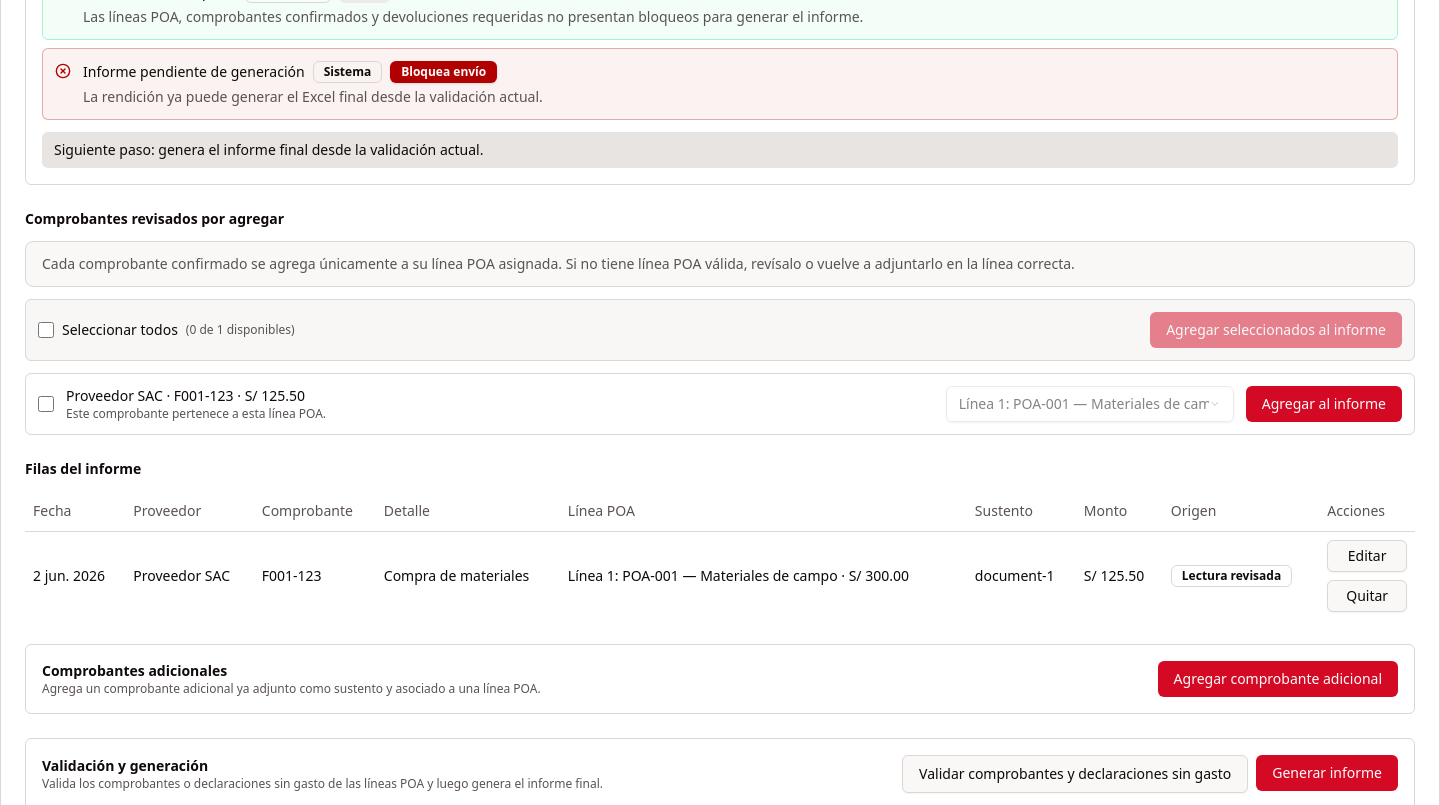
Test: StructuredRenditionReportCard › mantiene add individual, add seleccionados y generate bloqueados mientras el refetch está pendiente
(page scrolled)
Step 1. Click the checkbox named "Seleccionar Proveedor SAC" → (46, 404), box [38,396,54,412]
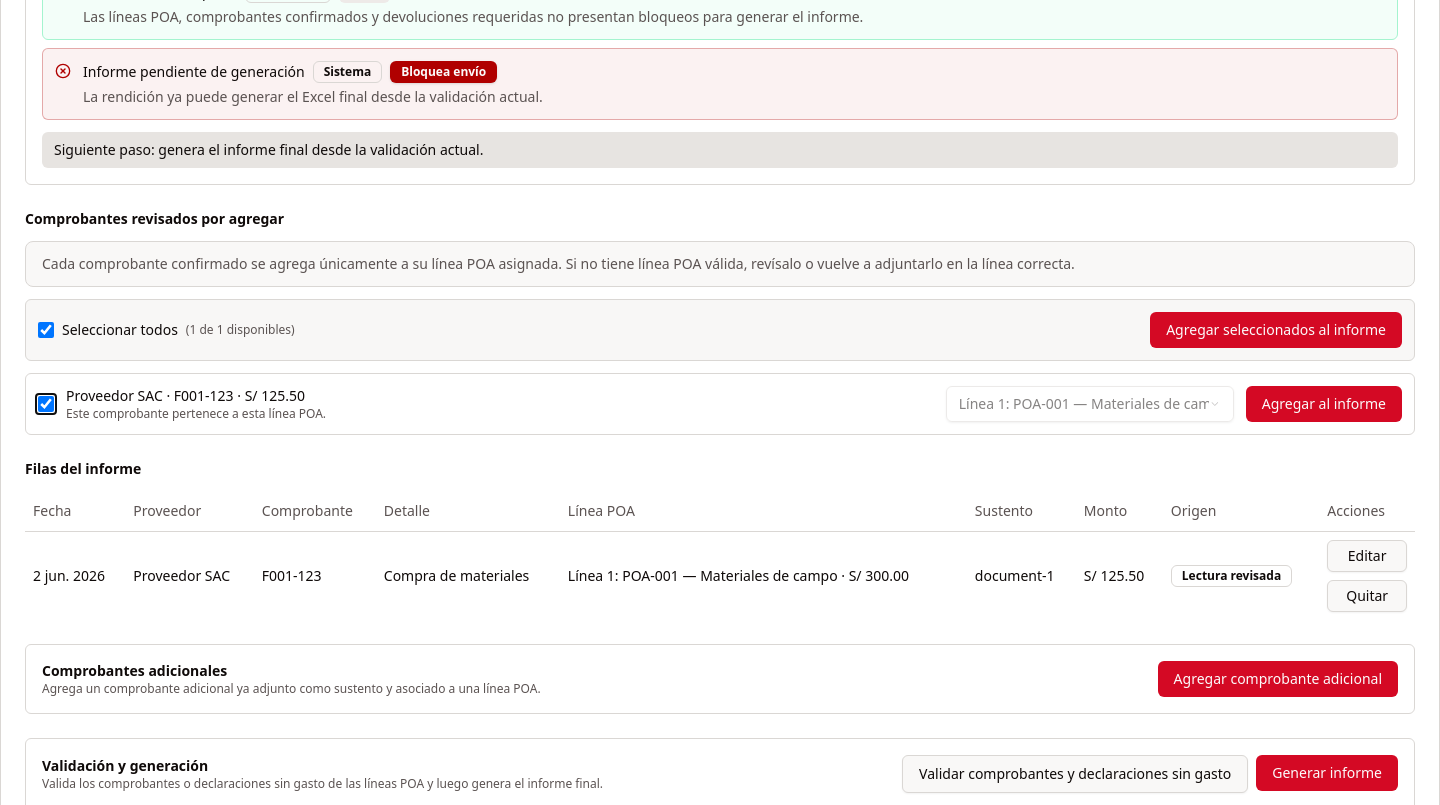
Step 2. Click the button "Agregar al informe" → (1324, 404), box [1246,386,1402,422]
(page scrolled)
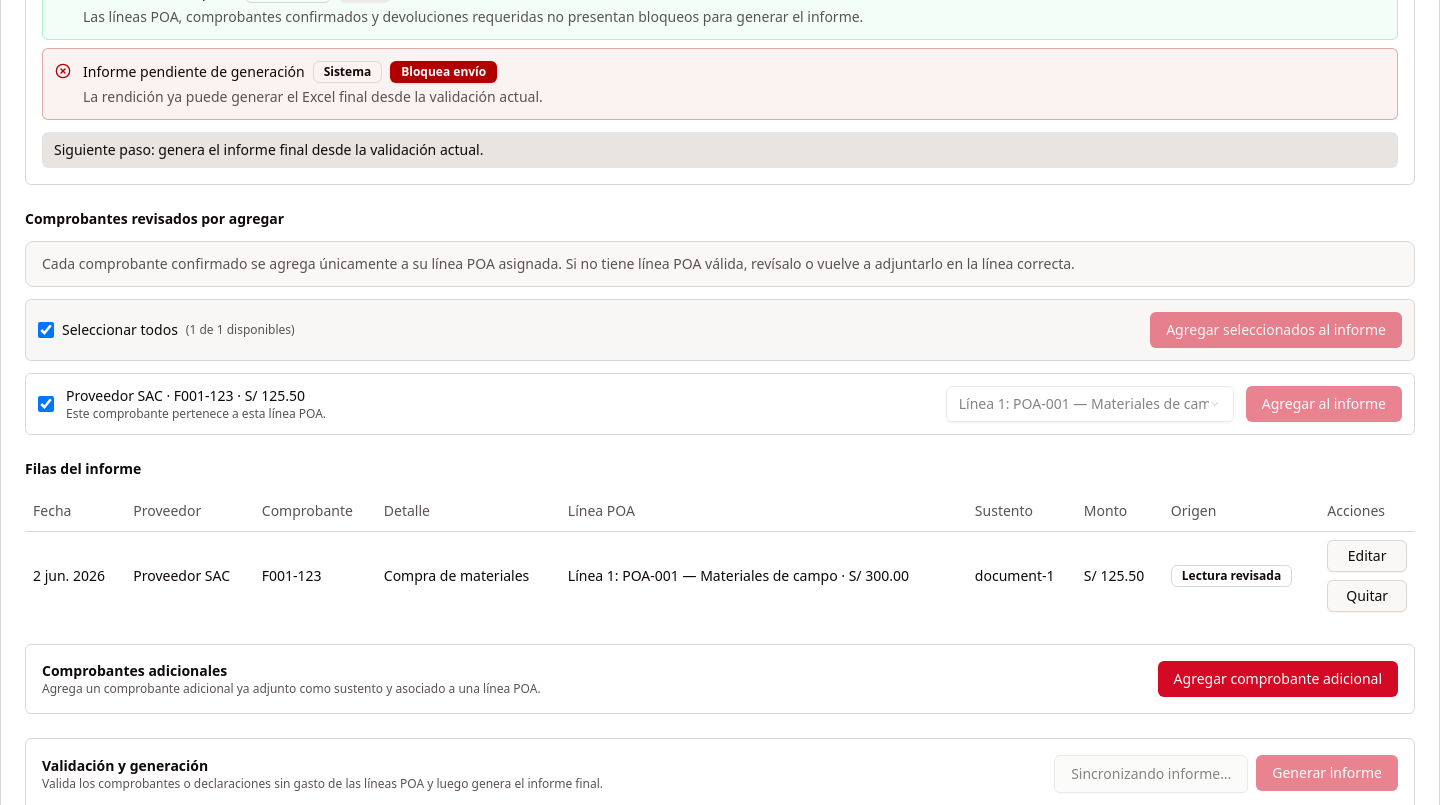
Expected: the button "Agregar al informe" is disabled, [1246,386,1402,422]
Expected: the button "Agregar seleccionados al informe" is disabled, [1150,312,1402,348]
Expected: the button "Generar informe" is disabled, [1256,754,1398,790]
